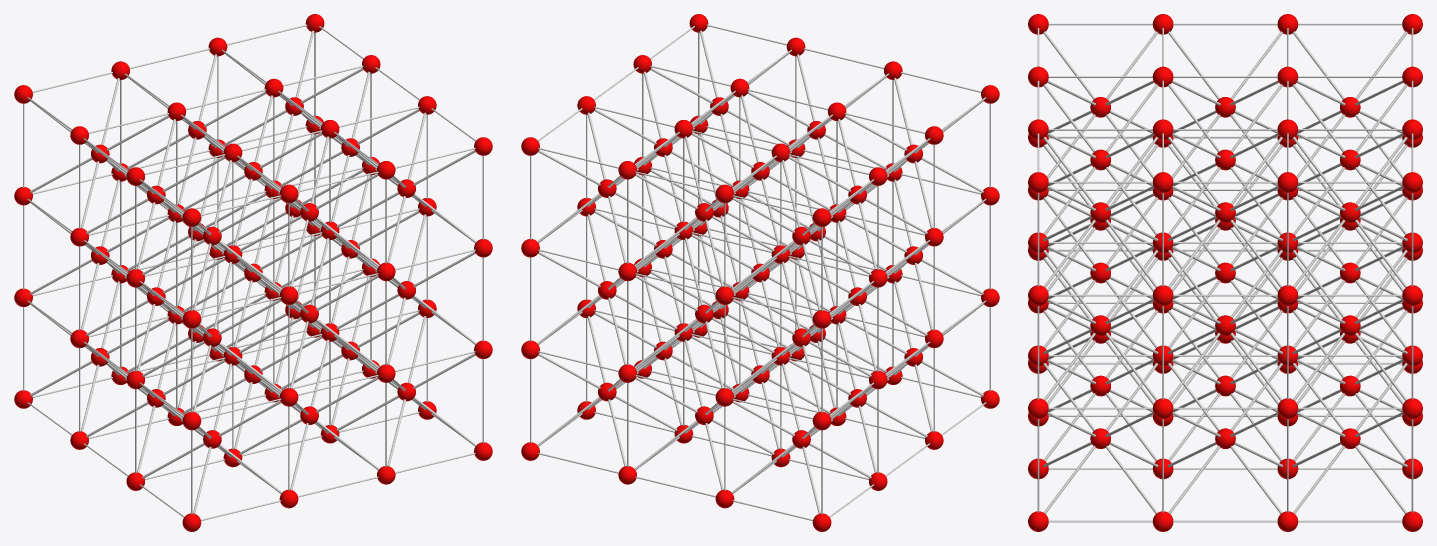
File: Kubisch Raumzentriertes Gitter_SilberEinheit.glb
The picture shows the model from 3 angles, left to right: view 1: azimuth 30°, elevation 25°; view 2: azimuth 150°, elevation 25°; view 3: azimuth 270°, elevation 25°; orthographic projection. The views are drawn at different scales.
Parts seen in each view (by area): view 1: world; view 2: world; view 3: world.
Boxes of the visible parts, x1,y1,x2,y2 form: world: (14,14,492,531); world: (521,14,999,531); world: (1028,14,1422,531).
Bounding box in the file's own units: 14.25 × 14.25 × 14.25.
